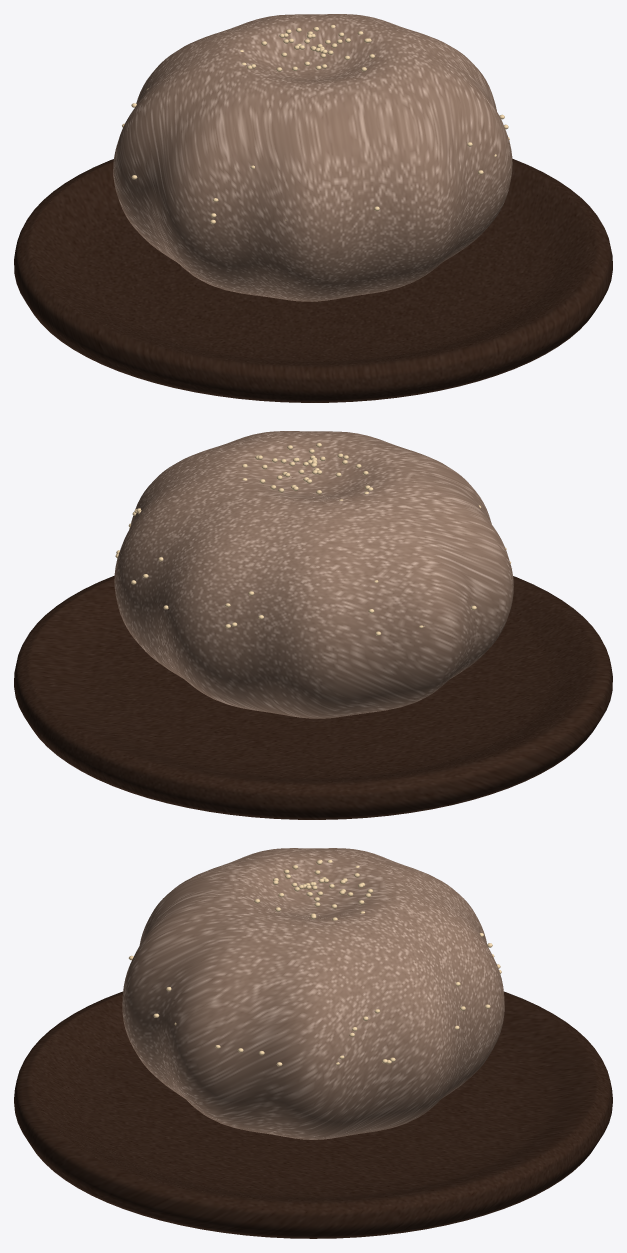
The model's file is 06-sesame-mochi.glb.
3 views of the same model, one above another, from view 1: azimuth 30°, elevation 25°; view 2: azimuth 150°, elevation 25°; view 3: azimuth 270°, elevation 25° (orthographic).
Parts seen in each view (by area): view 1: Black sesame mochi, Cocoa speckled pottery, Warm ivory rice; view 2: Black sesame mochi, Cocoa speckled pottery, Warm ivory rice; view 3: Black sesame mochi, Cocoa speckled pottery, Warm ivory rice.
Part boxes in pixels (x1,y1,x2,y2): Black sesame mochi: (113,14,512,301); Cocoa speckled pottery: (14,158,612,402); Warm ivory rice: (122,24,509,224); Black sesame mochi: (114,431,513,718); Cocoa speckled pottery: (14,575,612,819); Warm ivory rice: (115,443,511,635); Black sesame mochi: (122,848,504,1139); Cocoa speckled pottery: (14,991,612,1238); Warm ivory rice: (128,859,501,1066).
Bounding box in the file's own units: 0.0339 × 0.0151 × 0.0339.
3 materials, 3 textured.
